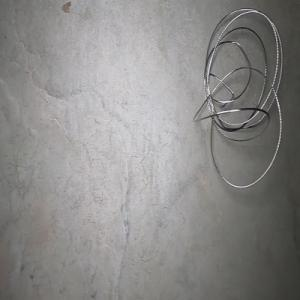Wire: (192, 7, 283, 188)
